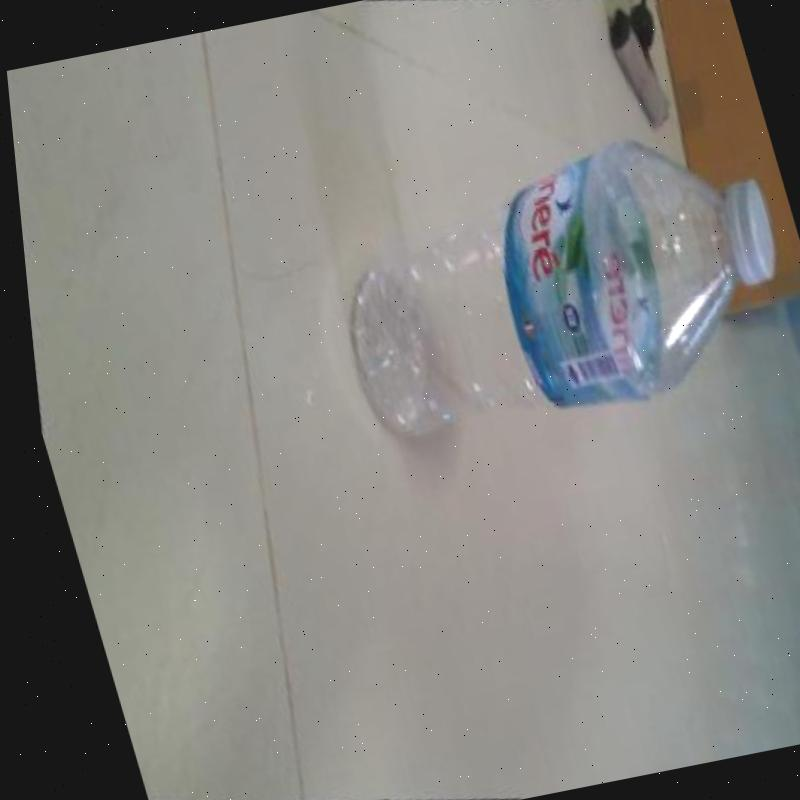botella: (296, 115, 800, 453)
